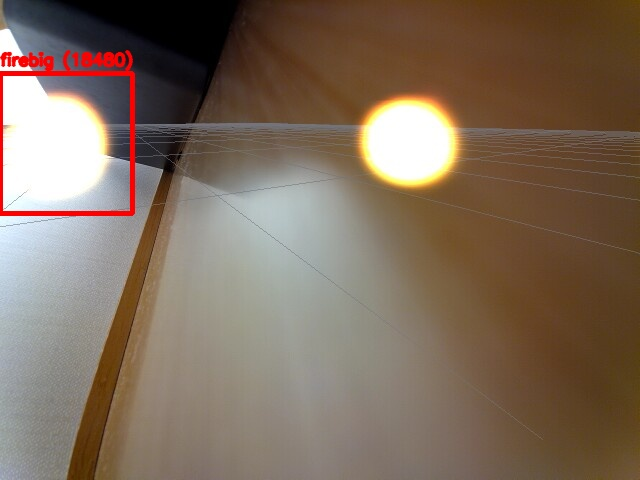firebig: (0, 73, 132, 213)
